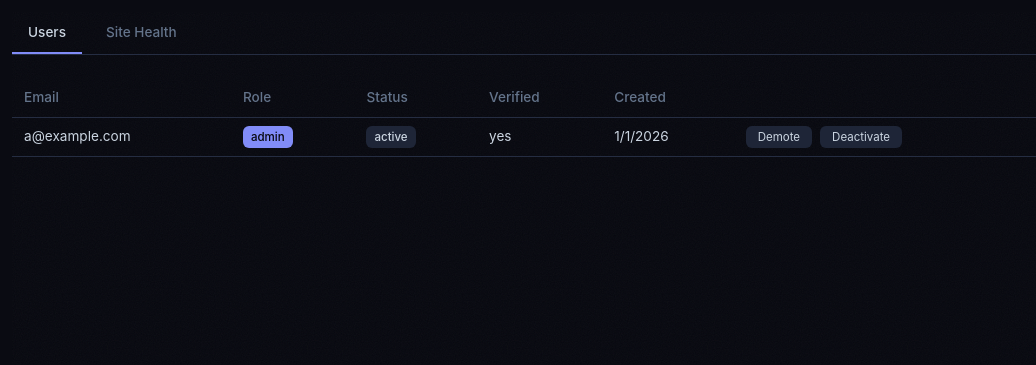
AdminView role gate › shows reports for admin on Site Health tab
The image size is (1036, 365).
Check: the text "a@example.com" is shown, box 12,117 -> 231,157
Click the tab "Site Health" at (141,33), box 90,12 -> 193,54
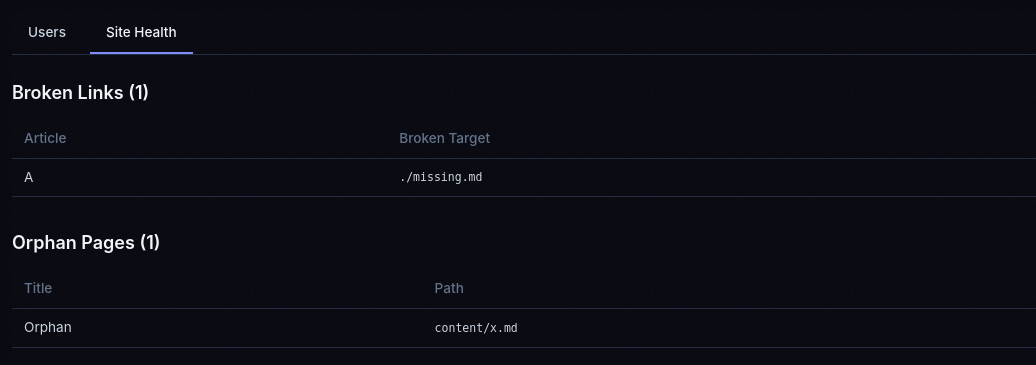
Check: the heading "Broken Links (1)" is shown, box 12,82 -> 149,103
Check: the heading "Orphan Pages (1)" is shown, box 12,232 -> 160,253
Check: the text "./missing.md" is shown, box 387,158 -> 1035,197
